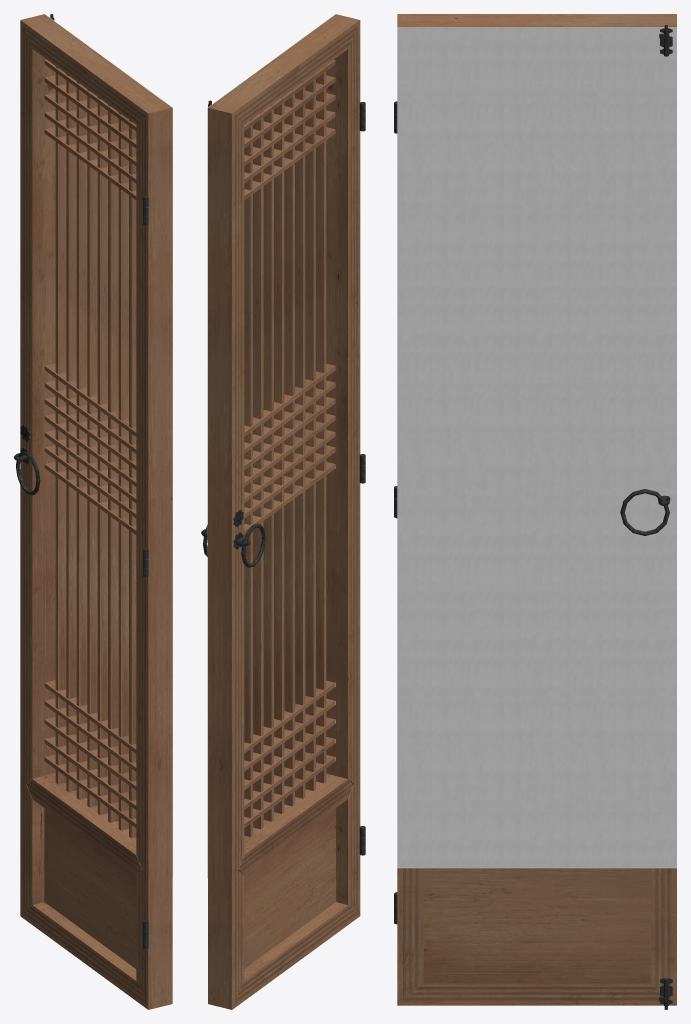
File: SM_JSH_WindowB.fbx
3 views of the same model, side by side, from view 1: azimuth 30°, elevation 25°; view 2: azimuth 150°, elevation 25°; view 3: azimuth 270°, elevation 25° (orthographic). The views are drawn at different scales.
Parts seen in each view (by area): view 1: SM_JSH_WindowB; view 2: SM_JSH_WindowB; view 3: SM_JSH_WindowB.
Boxes of the visible parts, x1,y1,x2,y2 form: SM_JSH_WindowB: [14, 14, 172, 1009]; SM_JSH_WindowB: [201, 14, 365, 1009]; SM_JSH_WindowB: [394, 14, 676, 1009].
Size of the model in its own units: 11.06 by 53.06 by 204.
1 material, 1 textured.
